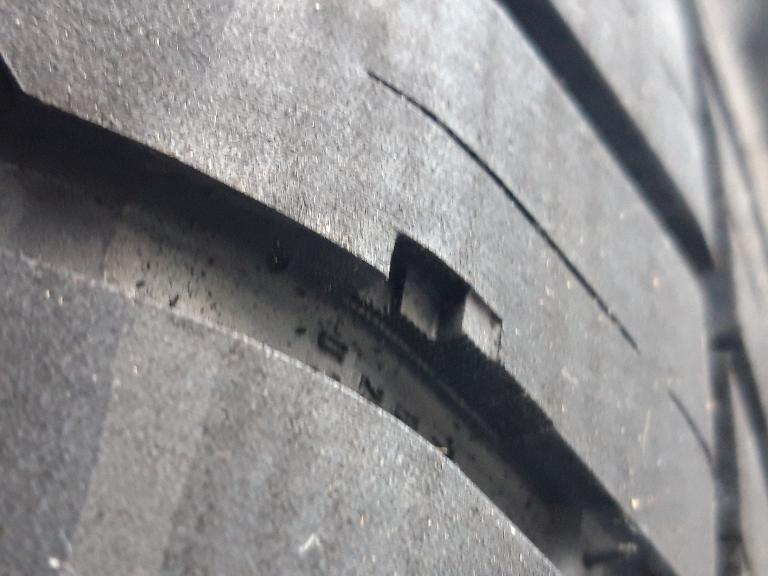temoin:50: (333, 221, 513, 417)
